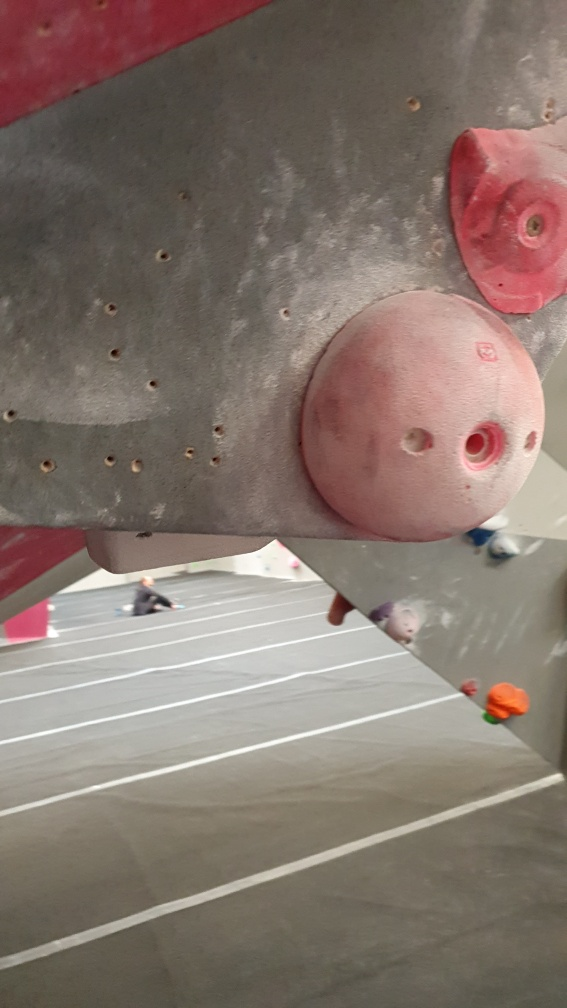Sloper: (296, 287, 545, 546)
